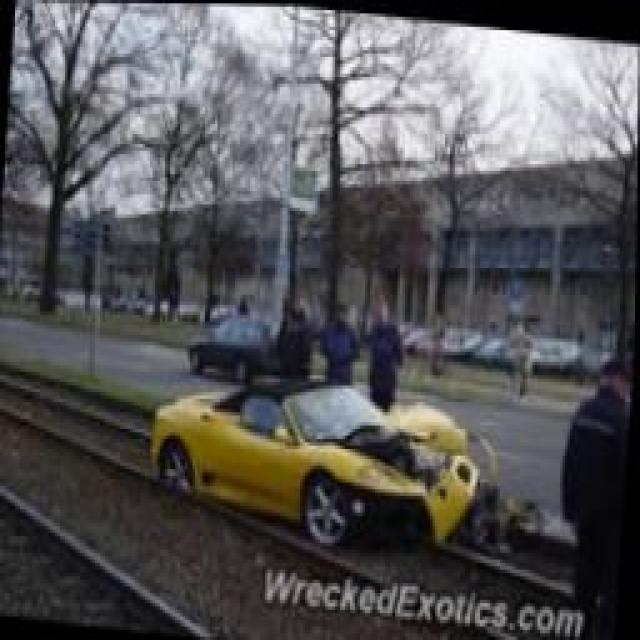Bonnet: (330, 405, 489, 485)
Bumper: (352, 444, 516, 546)
